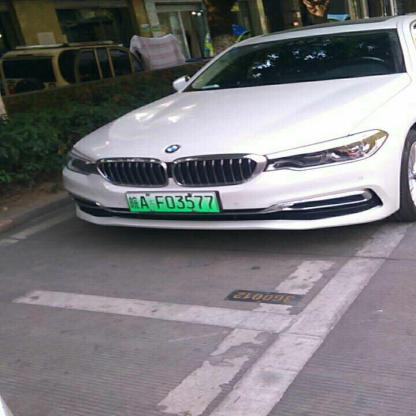lp: (126, 193, 218, 212)
